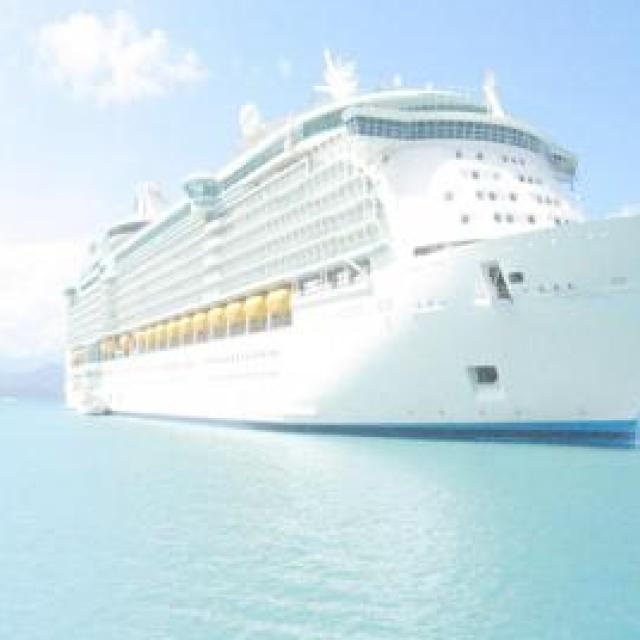passenger ship: (57, 58, 640, 452)
